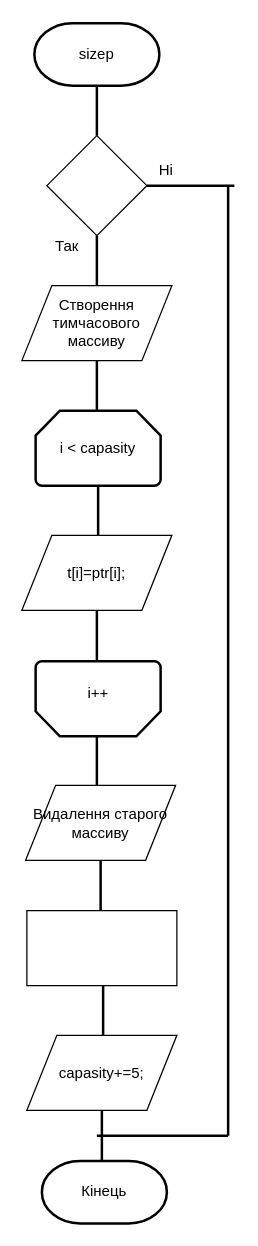
Image size: 258x1246. Some labels were removed from this diagram. Each missing label, with the box of its shape:
ptr=t;: (26, 909, 177, 986)
Фізичній та логічні розміри співпадають: (46, 134, 147, 236)
